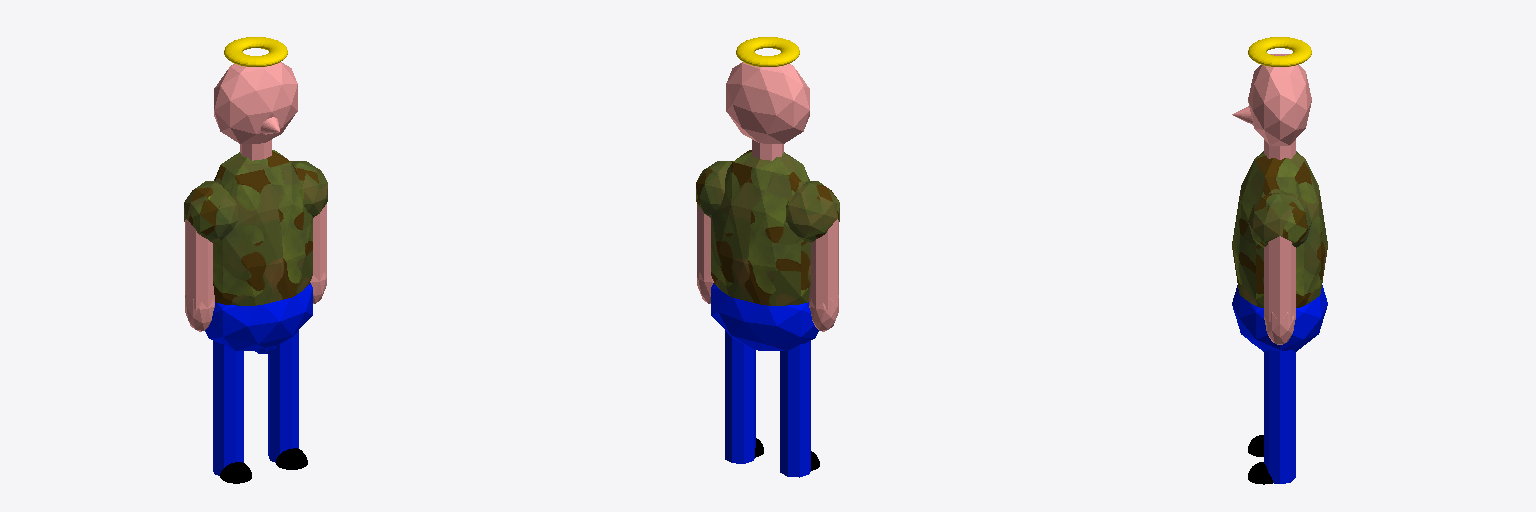
3 renders of one model, left to right at view 1: azimuth 30°, elevation 25°; view 2: azimuth 150°, elevation 25°; view 3: azimuth 270°, elevation 25°, orthographic.
Bounding box in the file's own units: 0.5 × 1.43 × 0.3.
5 materials, 1 textured.